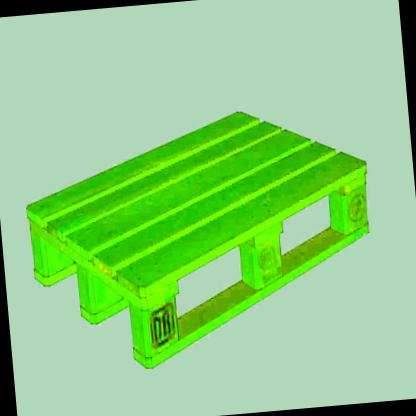BoxFace: (26, 106, 371, 371)
